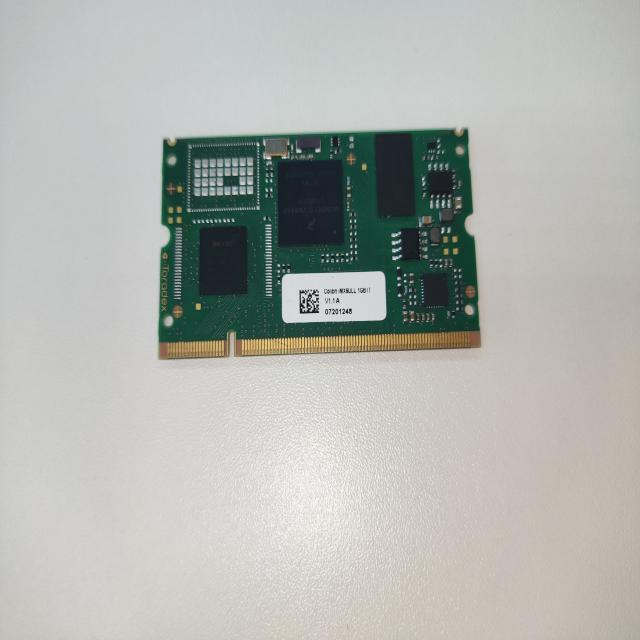som: (150, 124, 498, 368)
